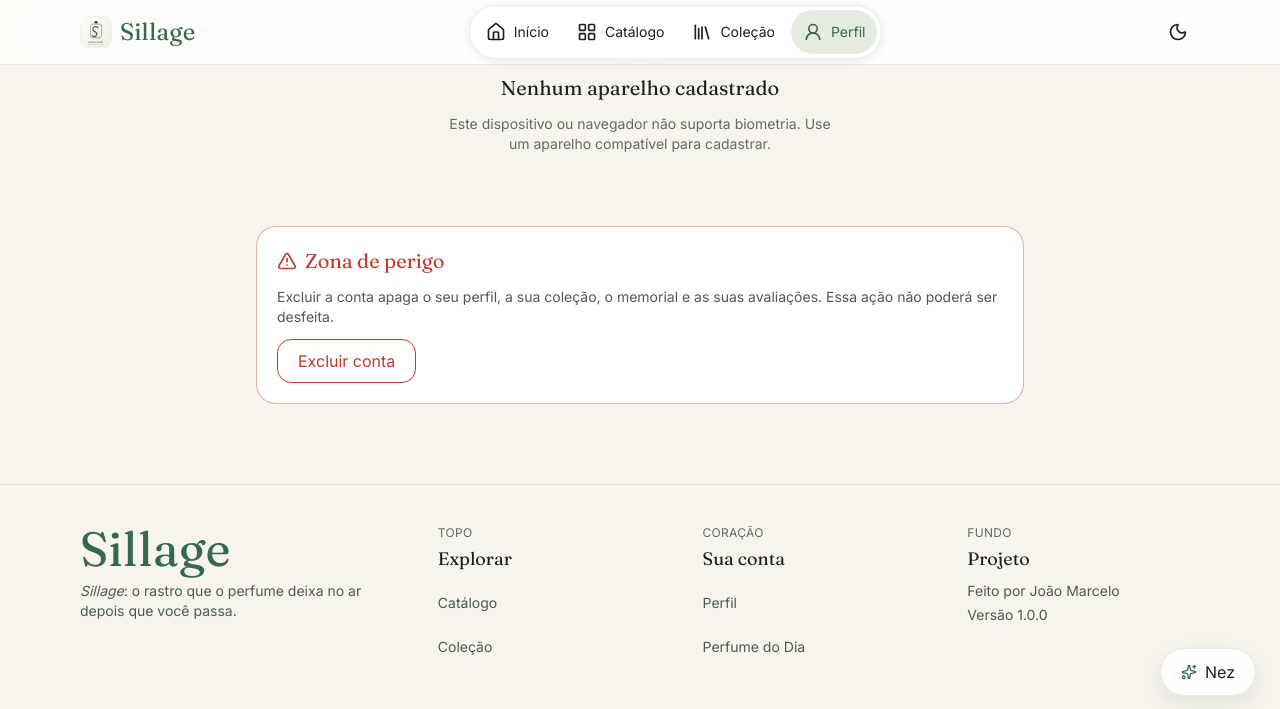
Test: ProfilePage › zona de perigo: o dialog abre, a exclusão pede EXCLUIR e cancelar fecha
This screenshot has width=1280, height=709.
(page scrolled)
expect the heading "Zona de perigo" is shown: met, box [277,248,444,272]
Click the button "Excluir conta".
click(347, 360)  # box [277,338,416,382]
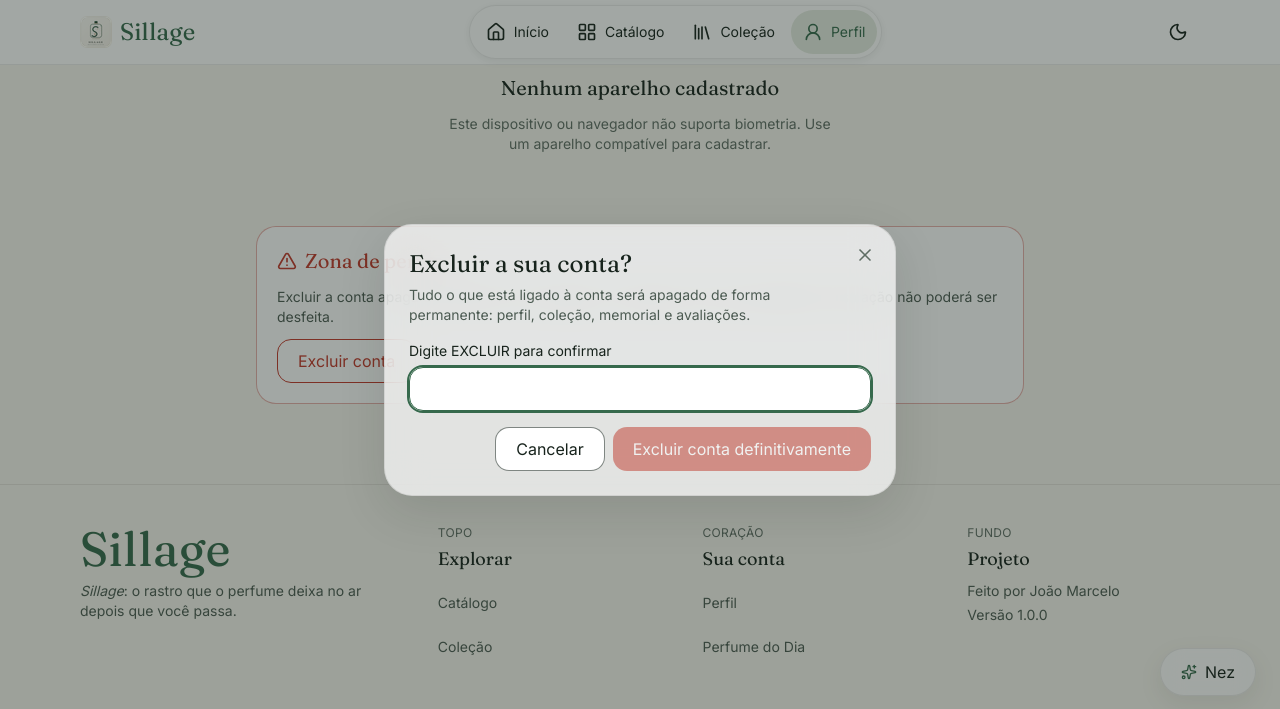
expect the button "Excluir conta definitivamente" is disabled: met, box [613,427,871,471]
Click the button "Cancelar".
click(550, 449)  # box [495,427,605,471]
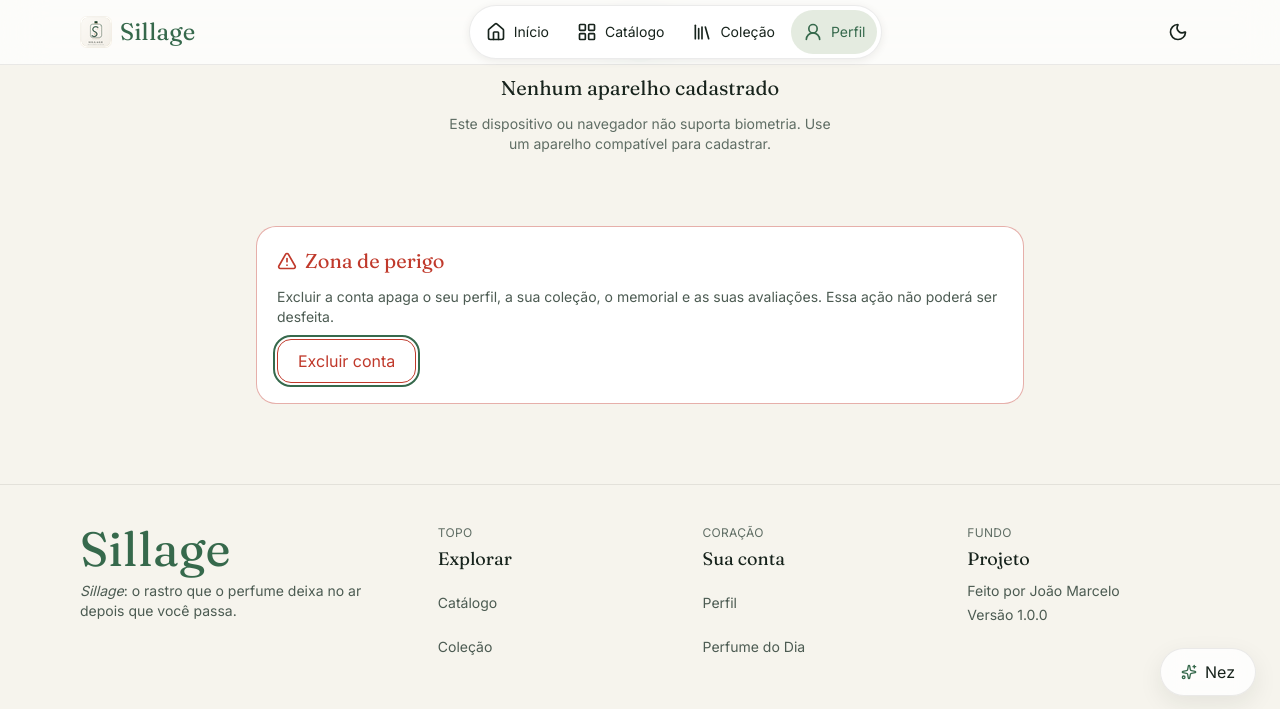
expect the dialog is gone: met
